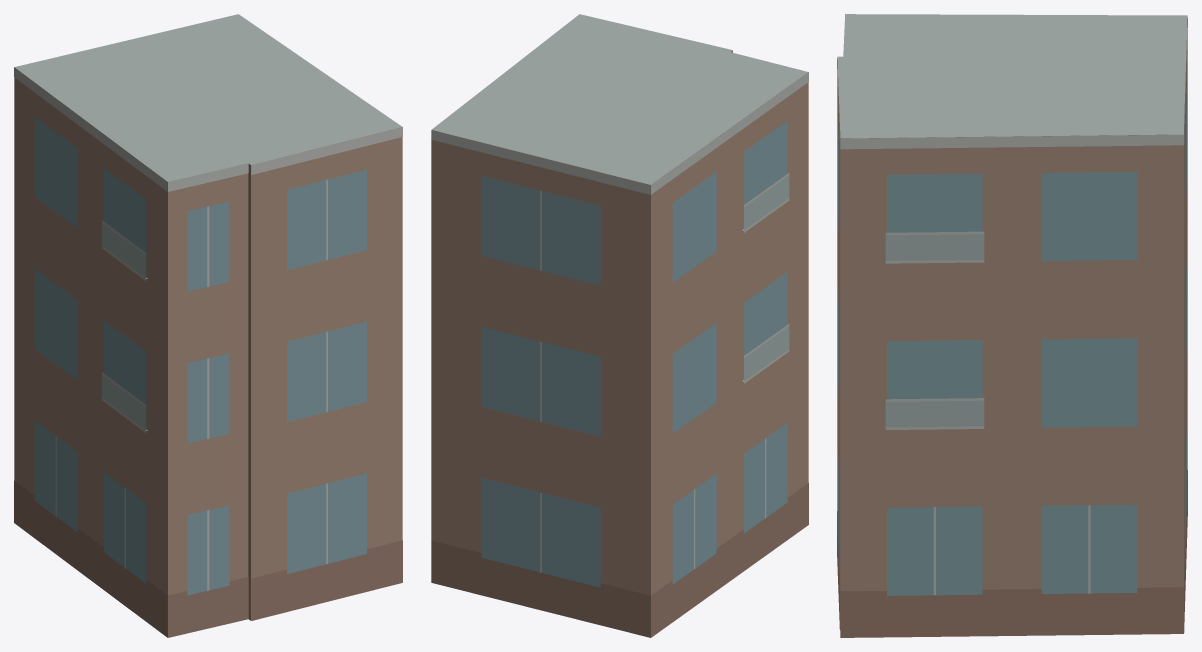
Rendered from survey-upis-32686180.glb.
3 renders of one model, left to right at view 1: azimuth 30°, elevation 25°; view 2: azimuth 150°, elevation 25°; view 3: azimuth 270°, elevation 25°, orthographic. The views are drawn at different scales.
Visible parts, largest first — view 1: survey-upis-32686180.tmp; view 2: survey-upis-32686180.tmp; view 3: survey-upis-32686180.tmp.
Part boxes in pixels (x1,y1,x2,y2): survey-upis-32686180.tmp: (14,14,402,637); survey-upis-32686180.tmp: (431,14,808,637); survey-upis-32686180.tmp: (837,14,1187,637).
Bounding box in the file's own units: 6.03 × 11.2 × 7.13.
